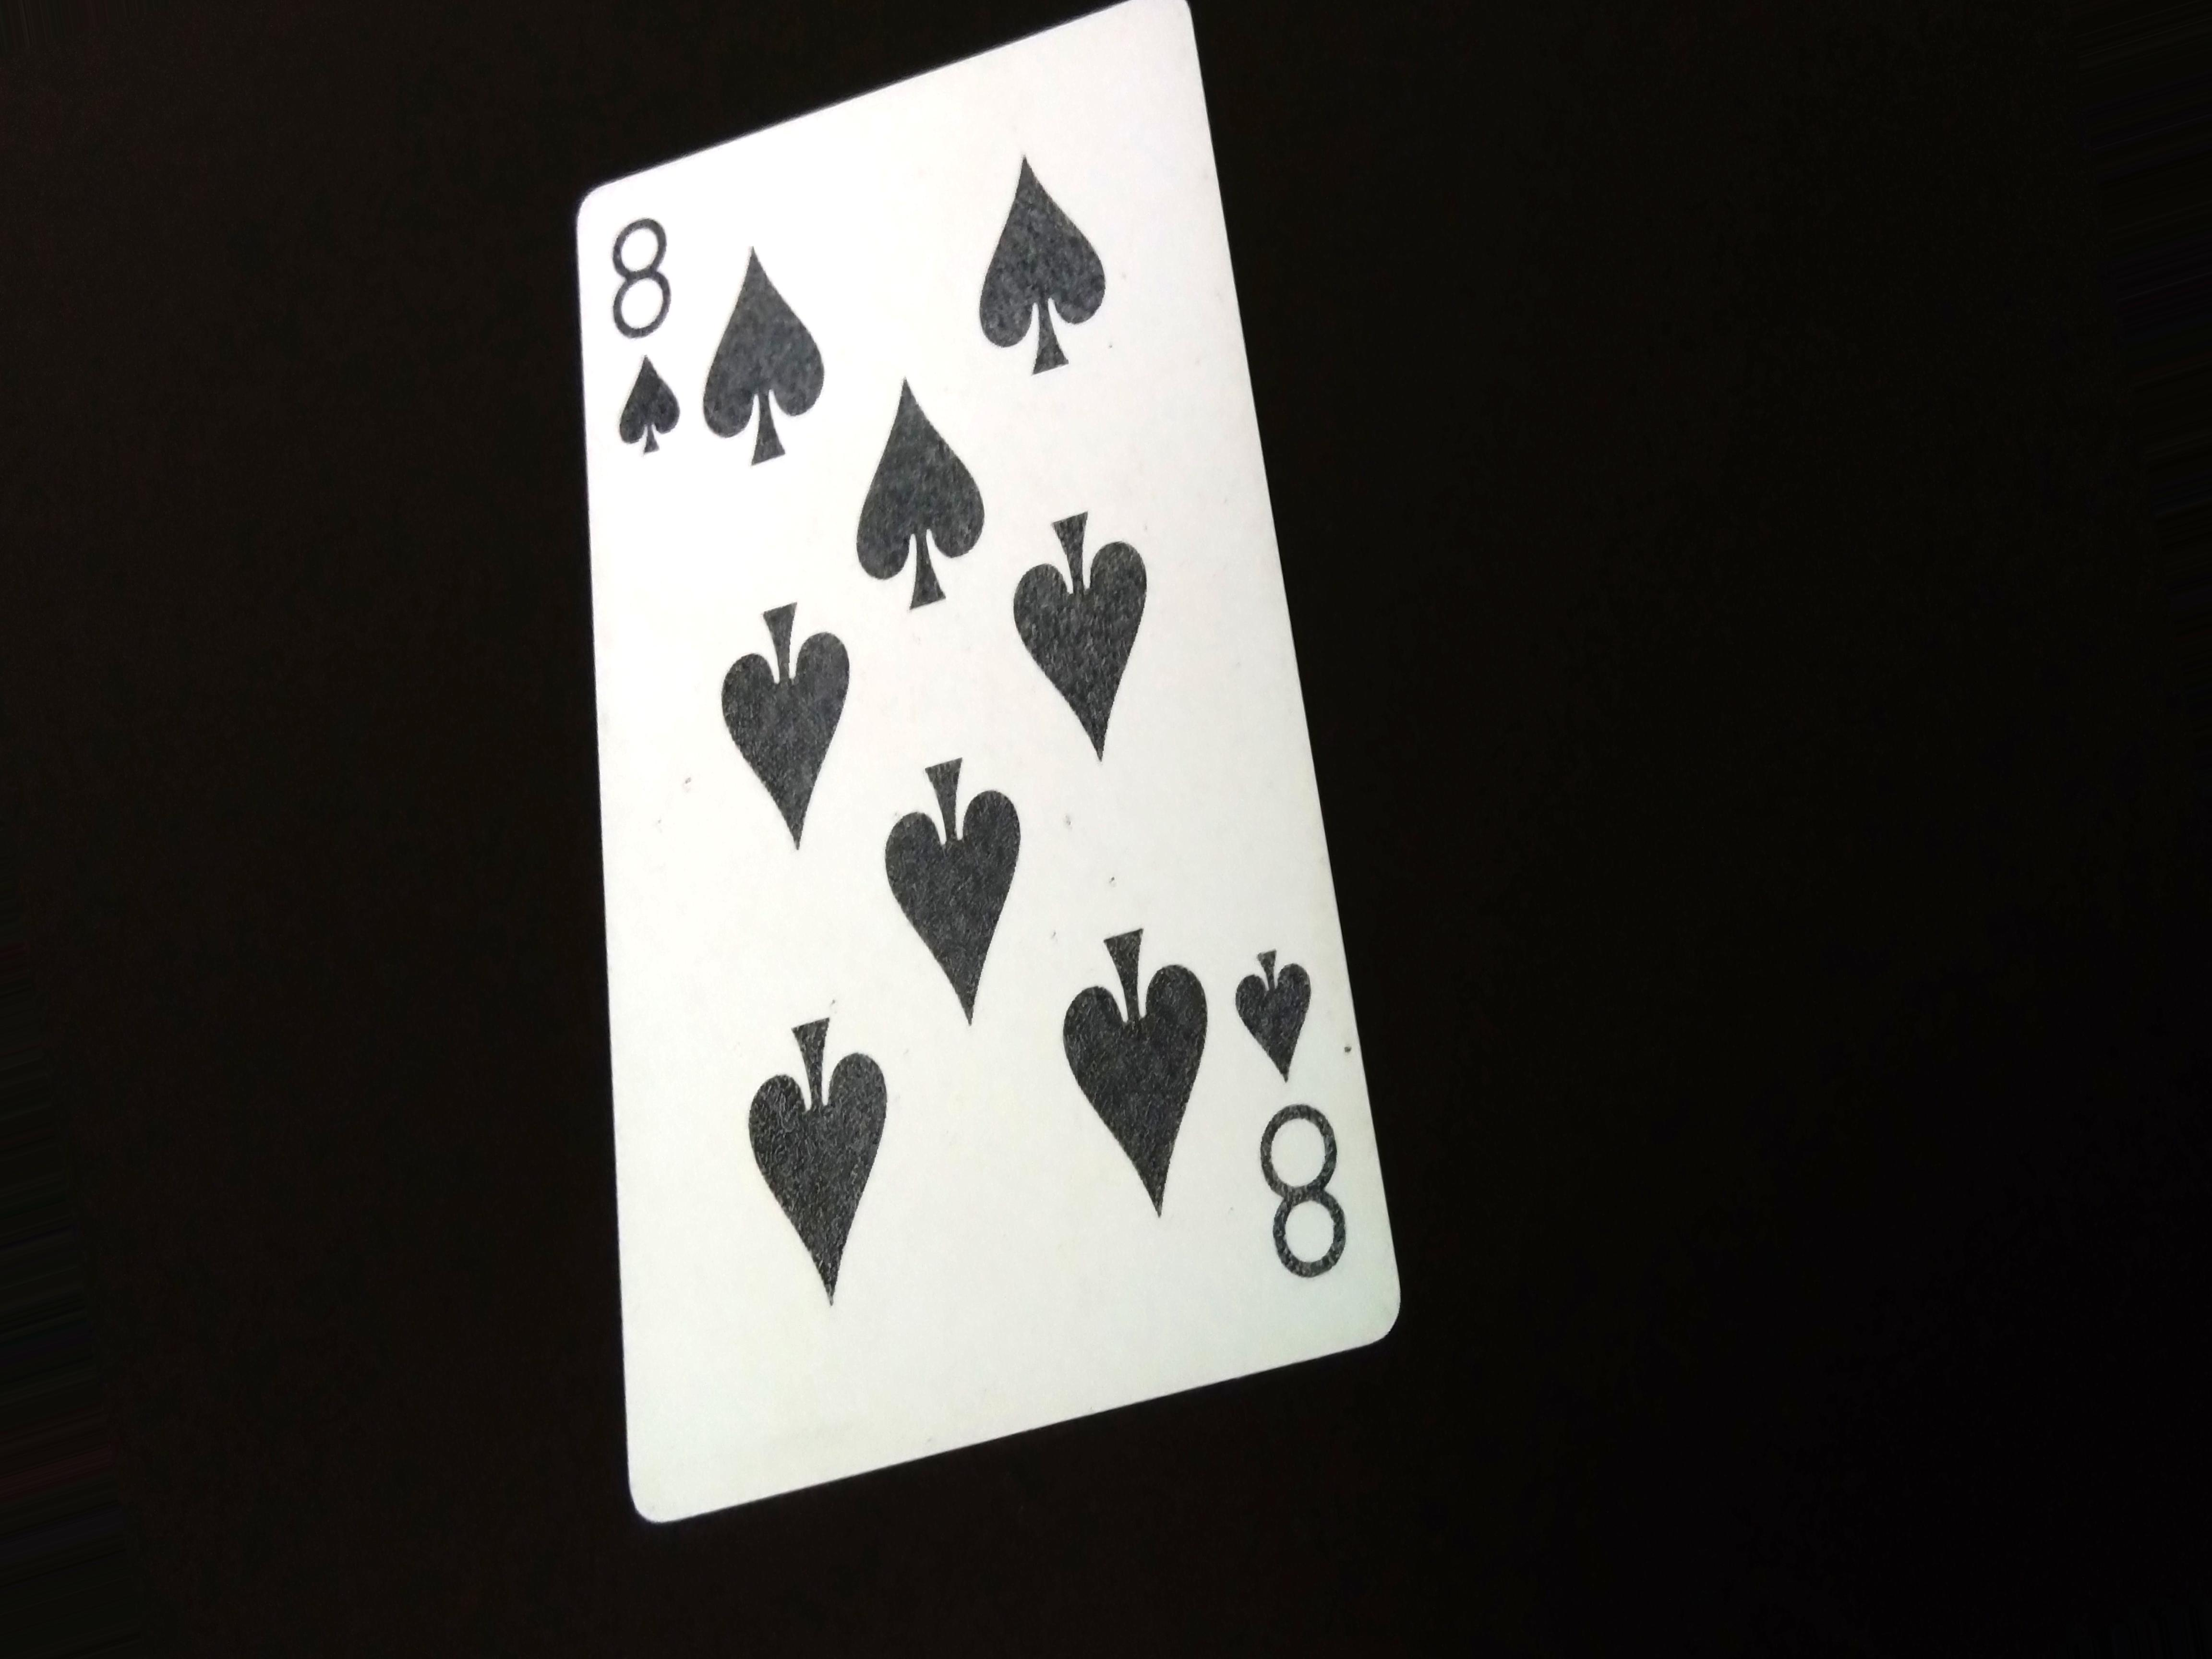8S: (601, 220, 704, 486)
